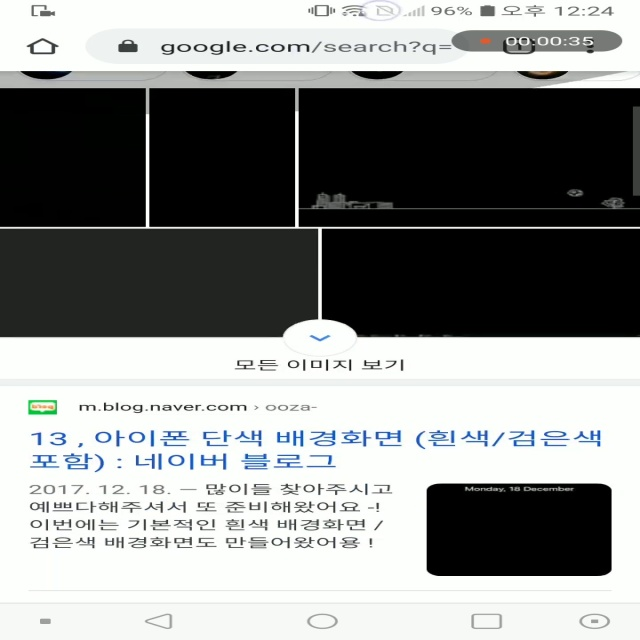Cursor: (360, 1, 404, 23)
